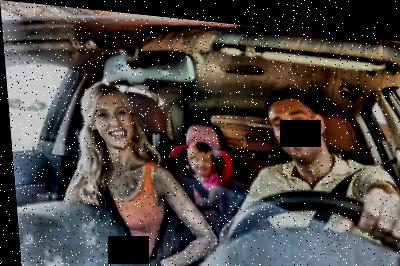seatbelt: (300, 140, 400, 226), (90, 183, 139, 257), (189, 170, 222, 215)
